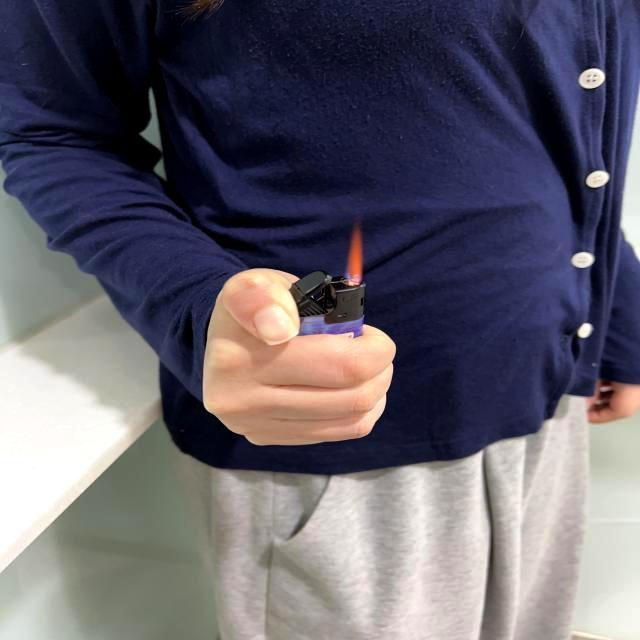fire: (344, 220, 364, 286)
